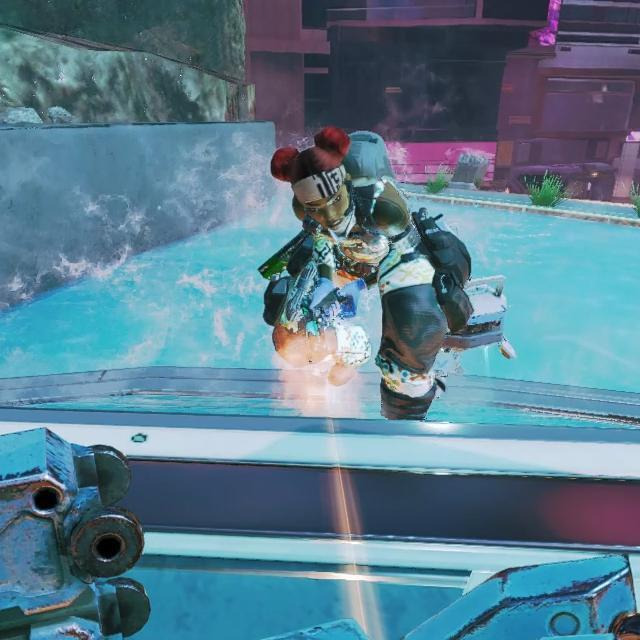avatar: (256, 124, 451, 425)
